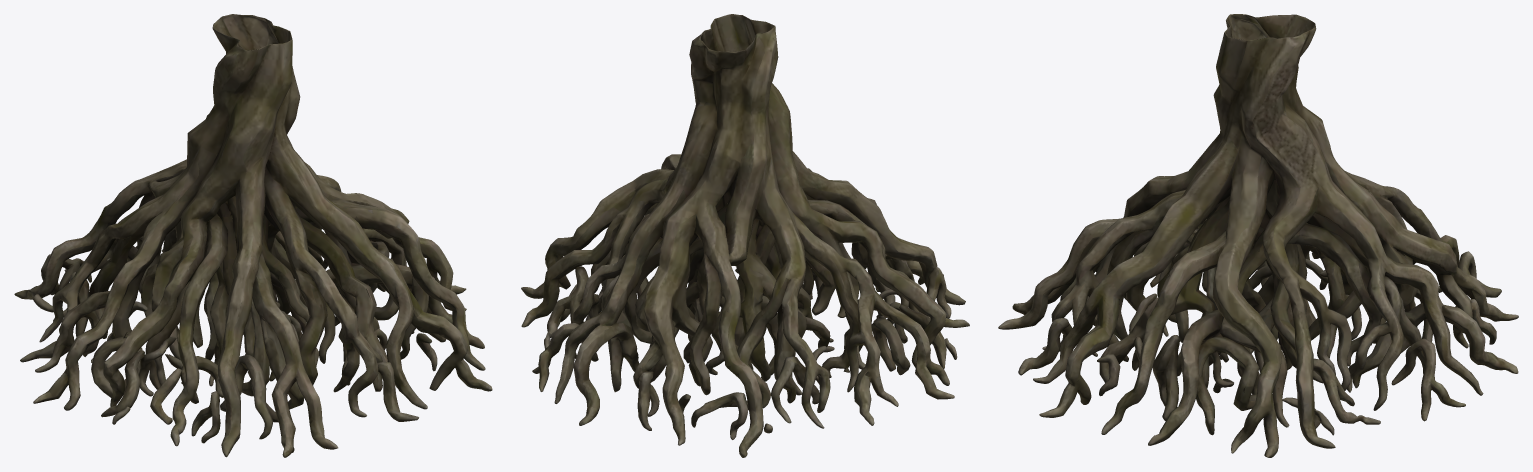
File: trunk_roots.glb
3 views of the same model, side by side, from view 1: azimuth 30°, elevation 25°; view 2: azimuth 150°, elevation 25°; view 3: azimuth 270°, elevation 25° (orthographic). The views are drawn at different scales.
Visible parts, largest first — view 1: world; view 2: world; view 3: world.
Part boxes in pixels (x1,y1,x2,y2): world: [14, 14, 492, 457]; world: [521, 14, 969, 457]; world: [998, 14, 1518, 457].
Size of the model in its own units: 0.9958 by 0.7052 by 0.9934.
Materials: 1 (1 with a texture image).
